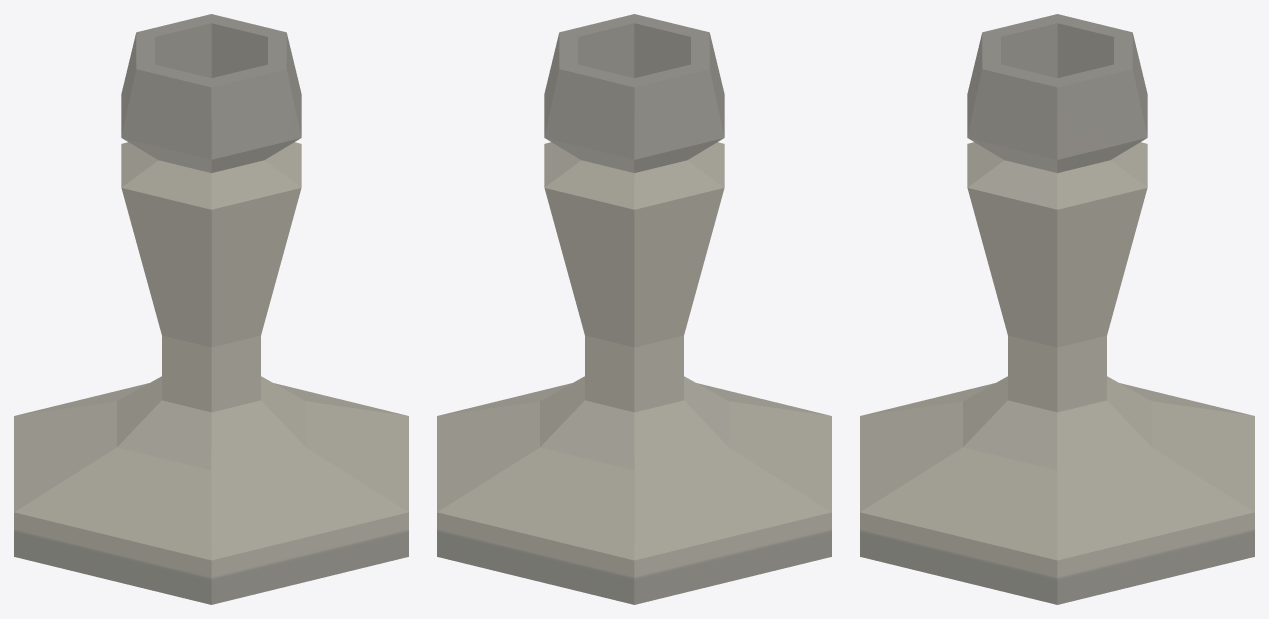
Rendered from elven_SM_Item_Quill_Holder_01.gltf.
The picture shows the model from 3 angles, left to right: view 1: azimuth 30°, elevation 25°; view 2: azimuth 150°, elevation 25°; view 3: azimuth 270°, elevation 25°; orthographic projection.
Visible parts, largest first — view 1: SM_Item_Quill_Holder_01; view 2: SM_Item_Quill_Holder_01; view 3: SM_Item_Quill_Holder_01.
Boxes of the visible parts, x1,y1,x2,y2 form: SM_Item_Quill_Holder_01: [14, 14, 408, 604]; SM_Item_Quill_Holder_01: [437, 14, 831, 604]; SM_Item_Quill_Holder_01: [860, 14, 1254, 604].
Bounding box in the file's own units: 0.1112 × 0.1233 × 0.0963.
1 material, 1 textured.
